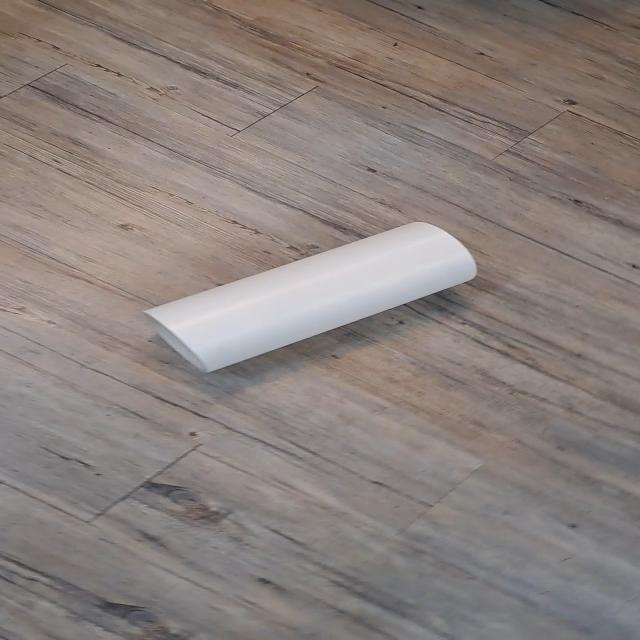CORAL: (125, 212, 497, 380)
